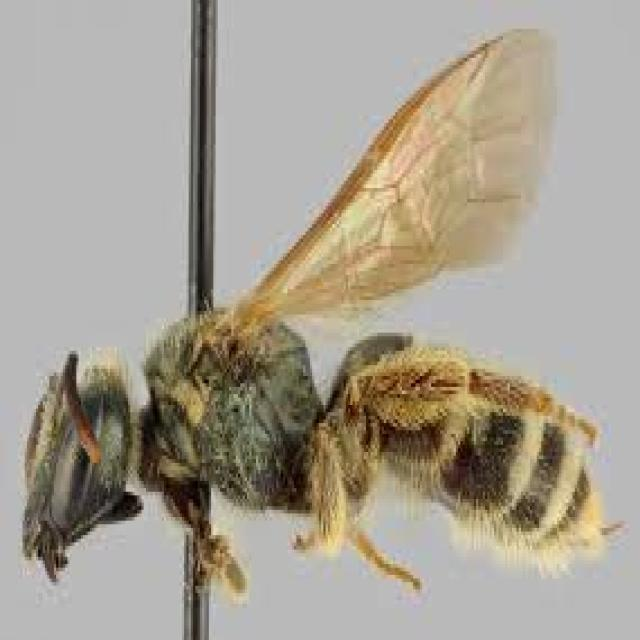Seladonia: (8, 60, 640, 640)
